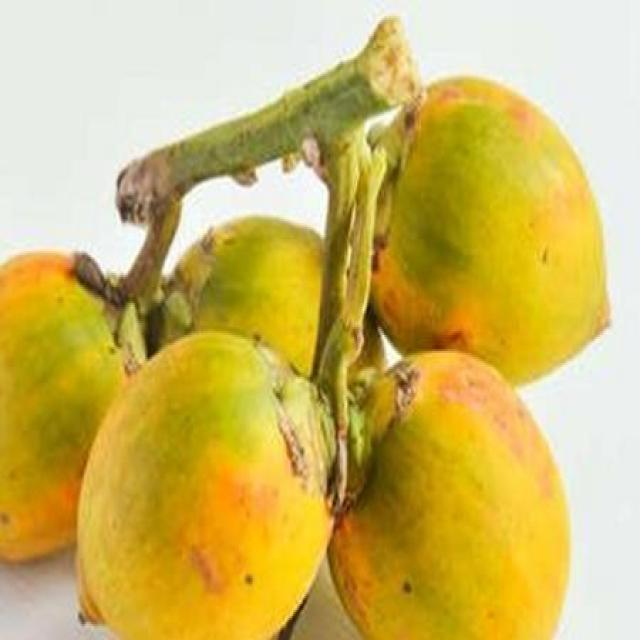good: (77, 329, 371, 638), (371, 76, 613, 389), (324, 351, 575, 638), (0, 253, 124, 568)
